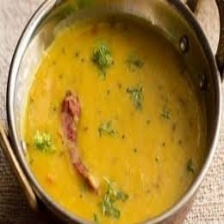dal: (18, 12, 211, 224)
